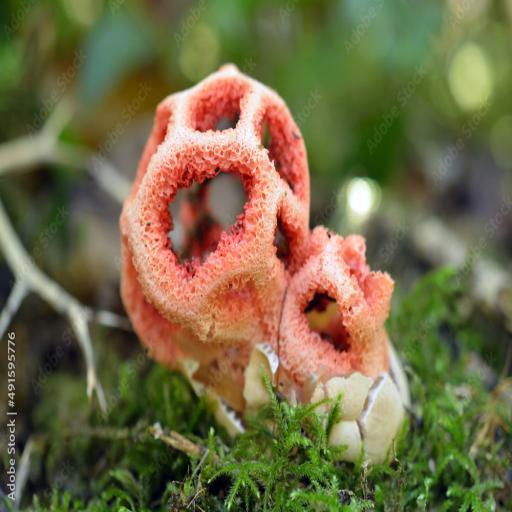mushroom: (118, 60, 420, 463)
